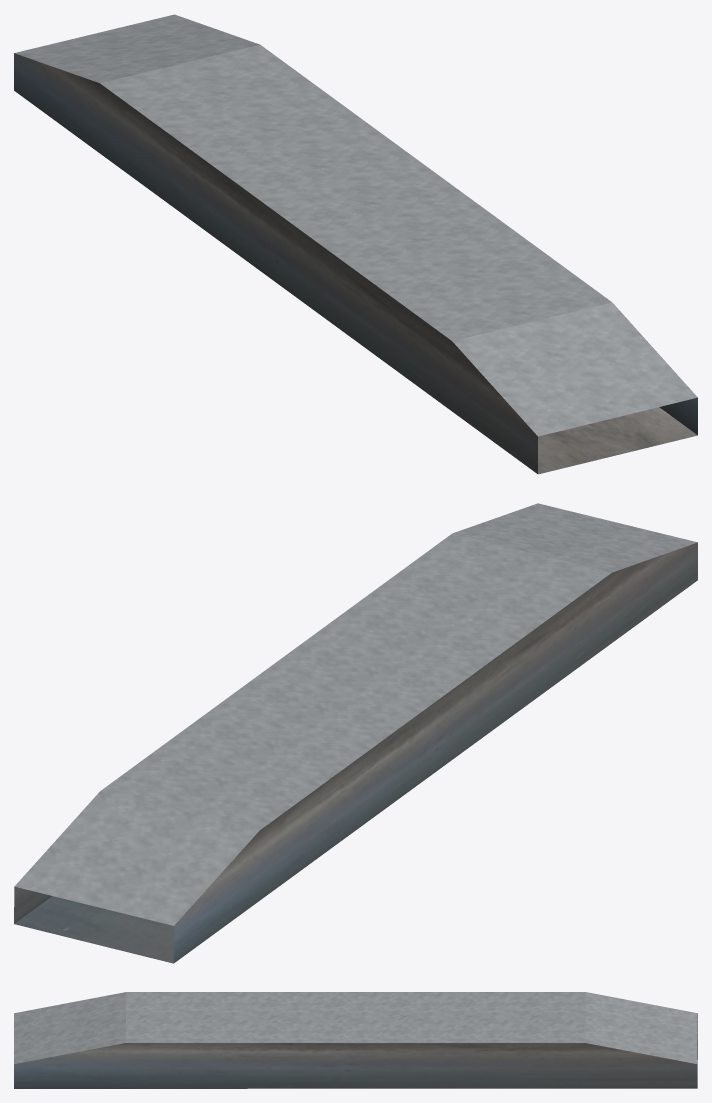
Rendered from Vat birdge.FBX.
3 renders of one model, top to bottom at view 1: azimuth 30°, elevation 25°; view 2: azimuth 150°, elevation 25°; view 3: azimuth 270°, elevation 25°, orthographic. The views are drawn at different scales.
Visible parts, largest first — view 1: Object001; view 2: Object001; view 3: Object001.
Part boxes in pixels (box(x1,y1,x2,y2)): Object001: box(14, 14, 697, 474); Object001: box(14, 503, 697, 963); Object001: box(14, 992, 697, 1088).
Size of the model in its own units: 66.72 by 28.09 by 379.
1 material, 1 textured.
